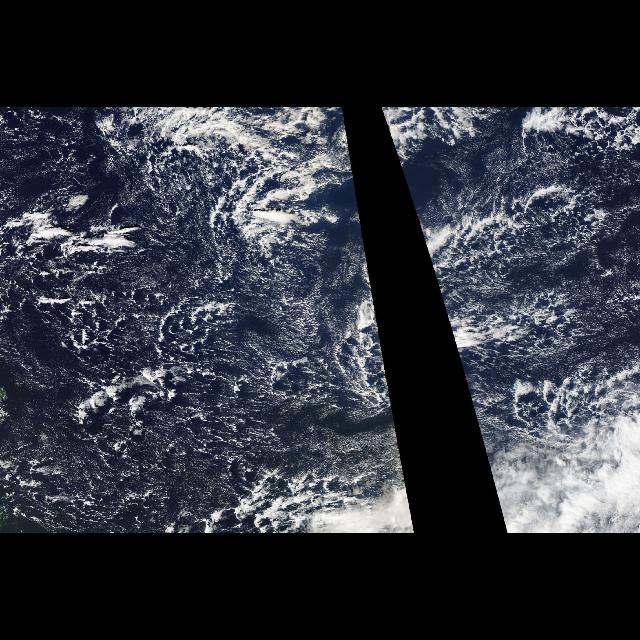Gravel: (12, 155, 376, 518), (432, 156, 610, 447)
Sugar: (240, 254, 354, 346), (278, 404, 404, 476)
